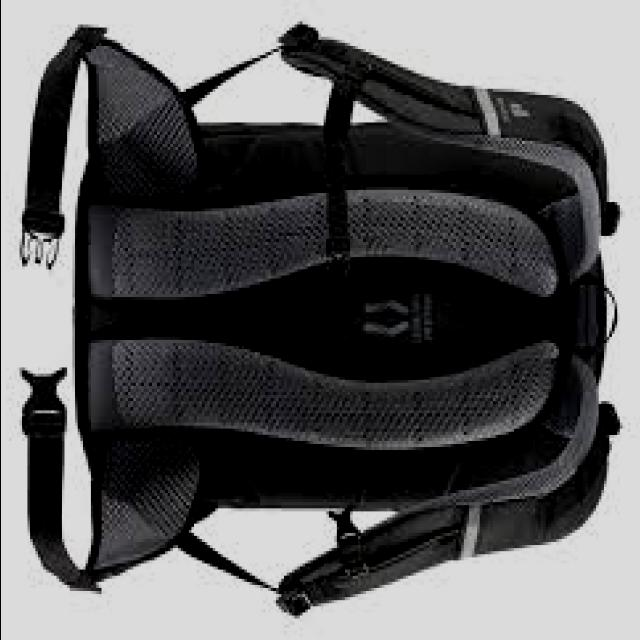backpack: (20, 23, 626, 617)
